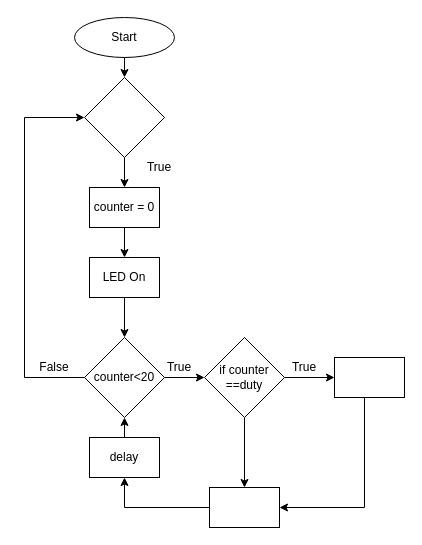
Image size: 422x545. Some labels were removed from this diagram. The shapes that lost their labels are listed below. From the top down, each one's centre as x and y in pixels, then its label:
At (x=124, y=117): "Loop".
At (x=369, y=377): "LED Off".
At (x=244, y=507): "counter++".
